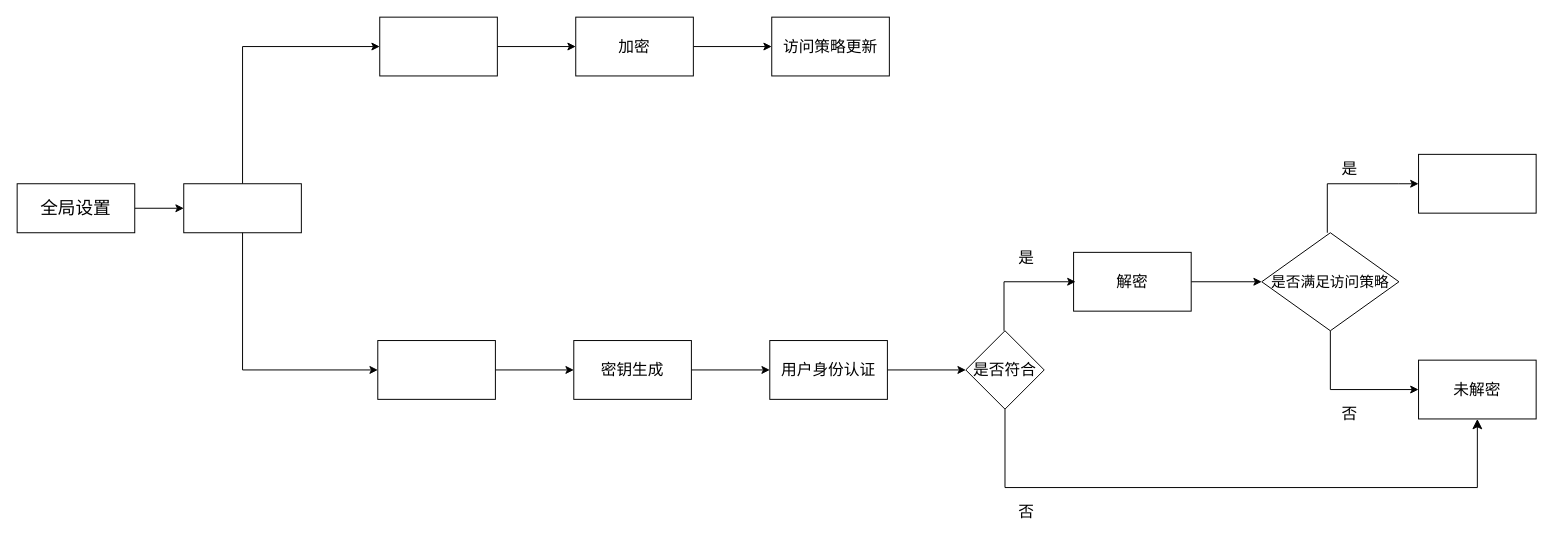
The diagram is 1553 pixels wide and 544 high, and some of its shapes have lost their labels. The shapes that lost their labels are listed below. From the top down, each one's centre as x and y in pixels, then its label:
At (438,46): "生成系统公钥".
At (1477,183): "明文m".
At (242,208): "权限设置".
At (436,369): "生成系统主私钥".
